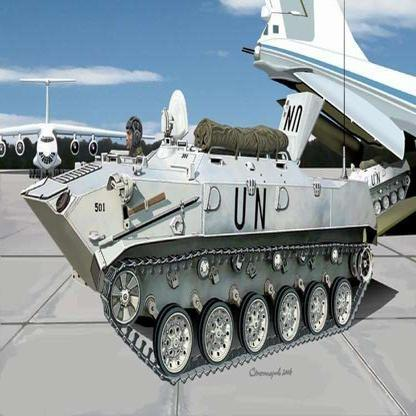Tank: (23, 111, 380, 386)
